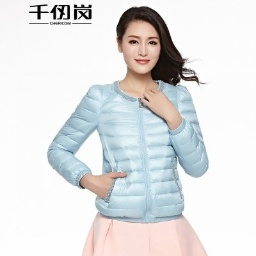face: (115, 6, 201, 86)
